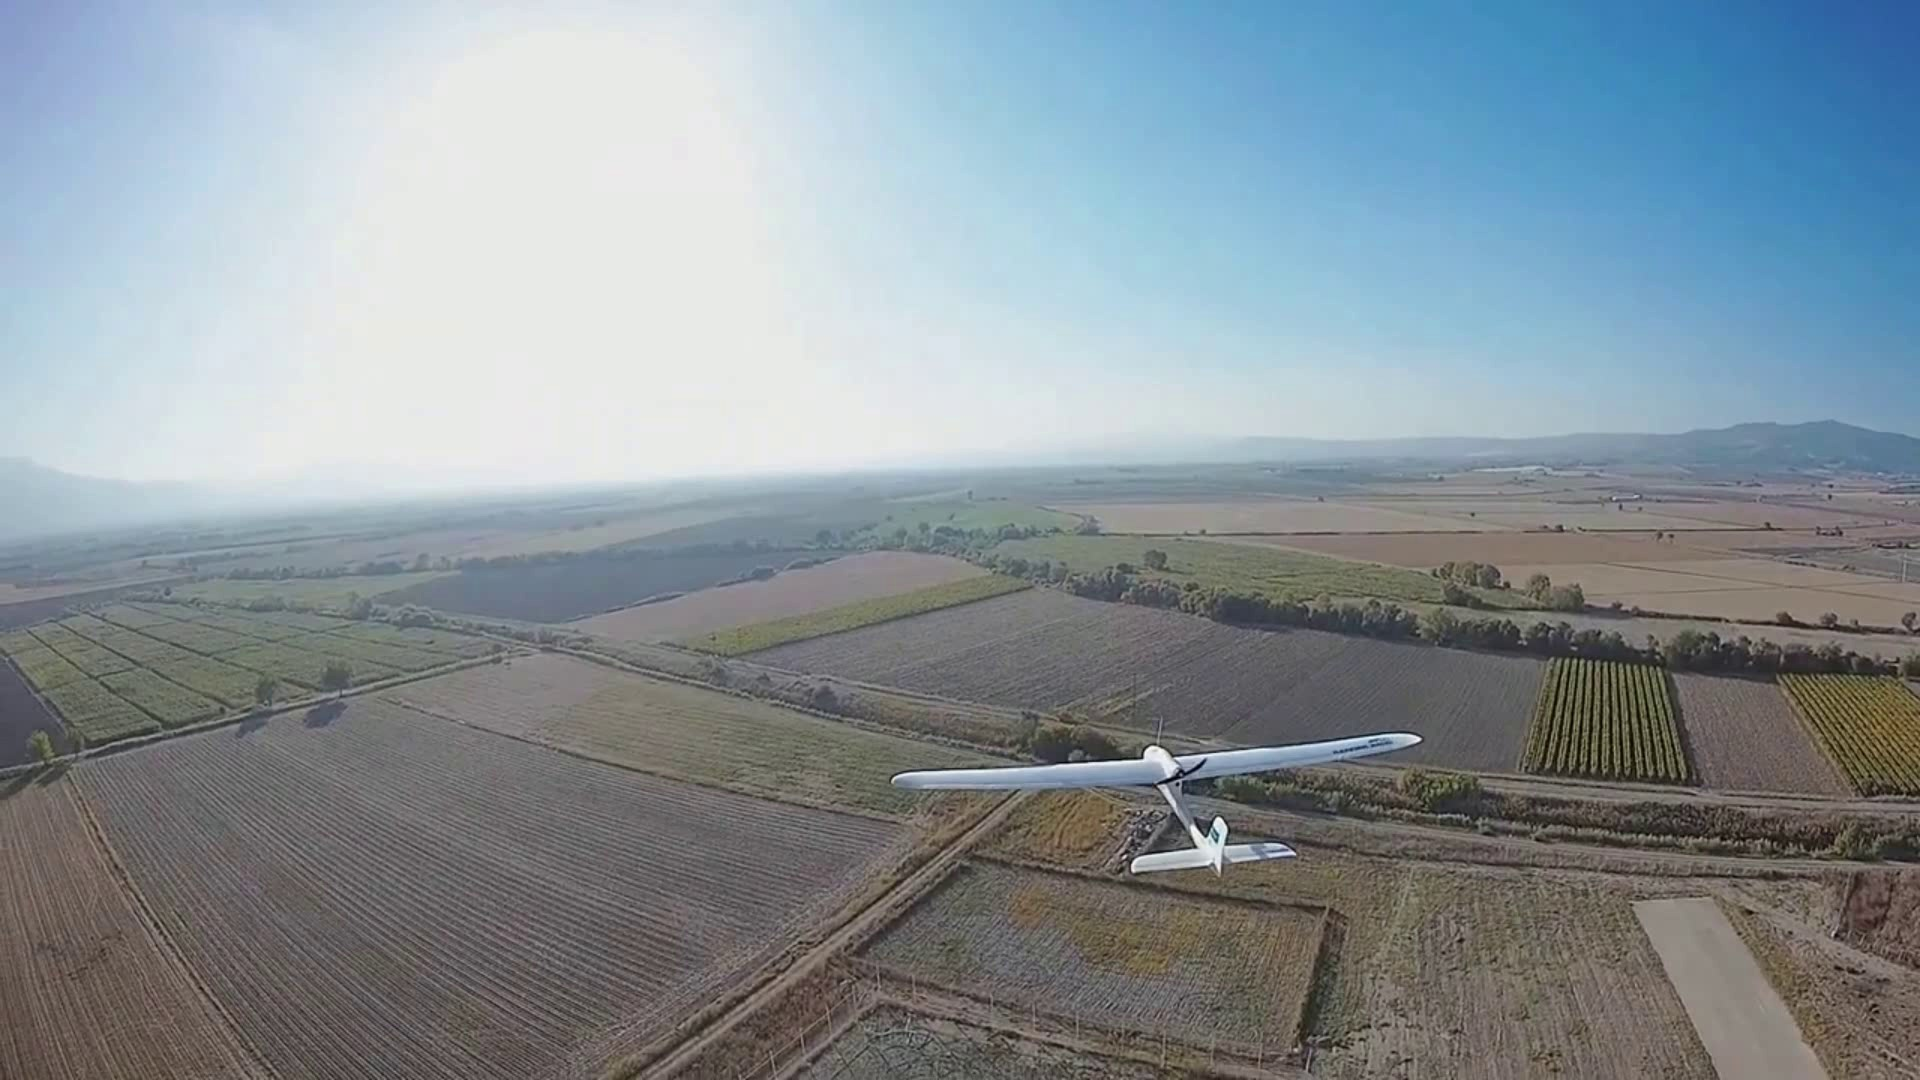airplane: (887, 728, 1425, 876)
